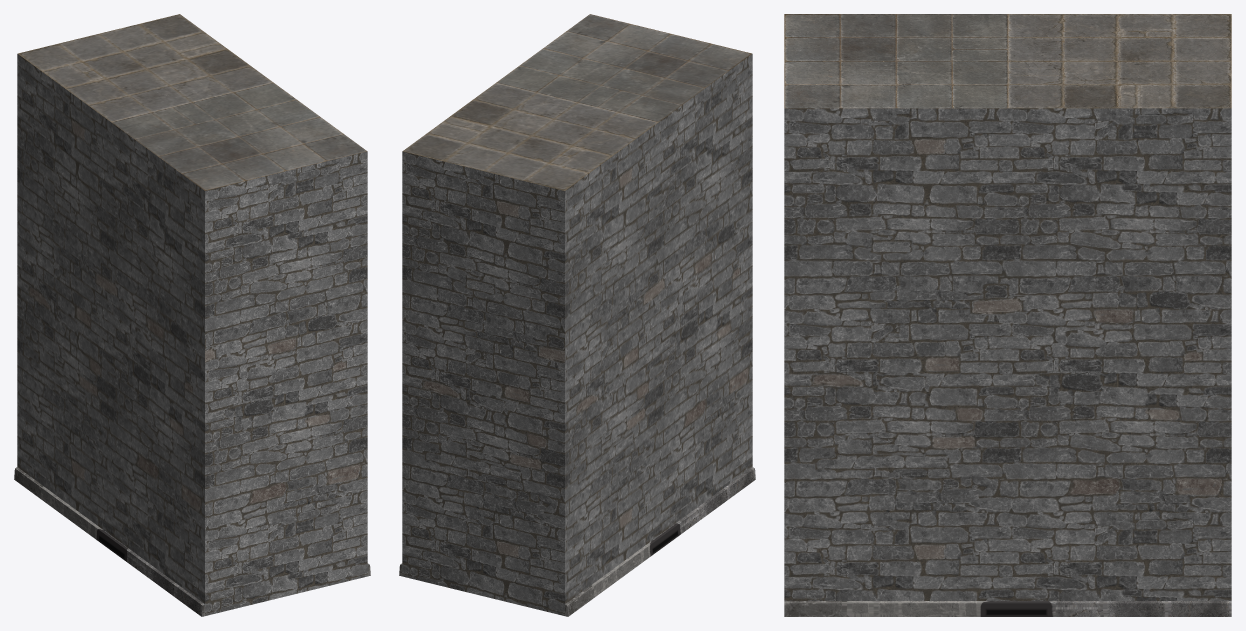
File: MC_Castle_Wall_B_8m.fbx
The picture shows the model from 3 angles, left to right: view 1: azimuth 30°, elevation 25°; view 2: azimuth 150°, elevation 25°; view 3: azimuth 270°, elevation 25°; orthographic projection. The views are drawn at different scales.
Visible parts, largest first — view 1: MC_Castle_Wall_B_8m; view 2: MC_Castle_Wall_B_8m; view 3: MC_Castle_Wall_B_8m.
Part boxes in pixels (<box>): MC_Castle_Wall_B_8m: <box>14,14,370,616</box>; MC_Castle_Wall_B_8m: <box>399,14,755,616</box>; MC_Castle_Wall_B_8m: <box>784,14,1231,616</box>.
Bounding box in the file's own units: 416 × 1000 × 800.
